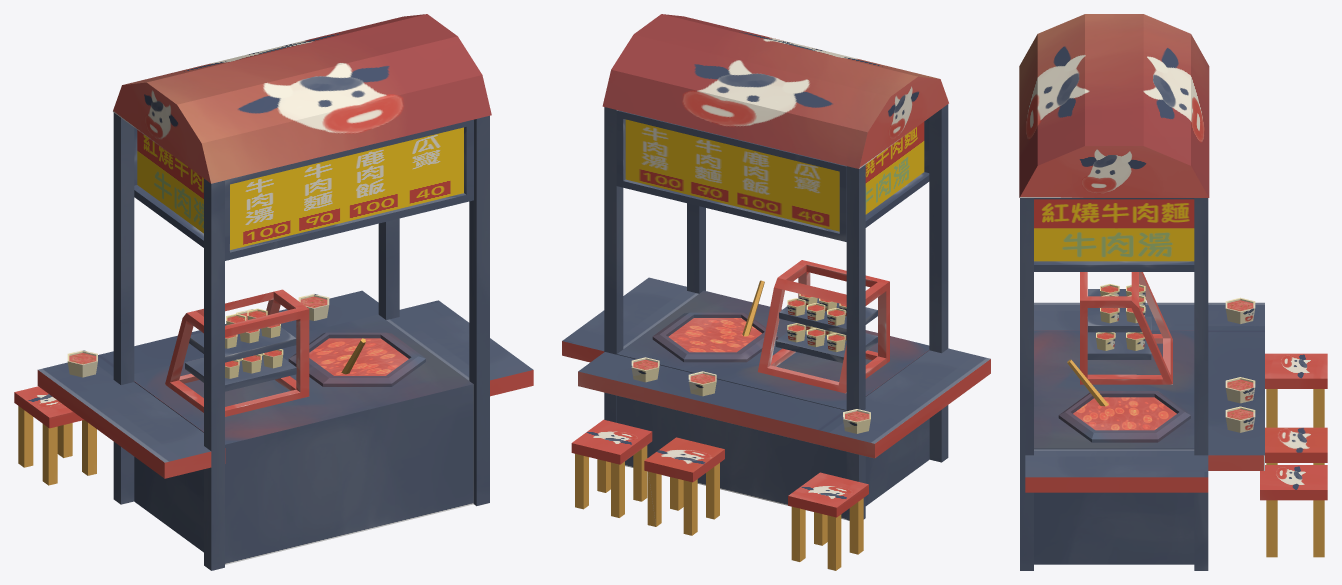
Rendered from Stand_2.glb.
The picture shows the model from 3 angles, left to right: view 1: azimuth 30°, elevation 25°; view 2: azimuth 150°, elevation 25°; view 3: azimuth 270°, elevation 25°; orthographic projection. The views are drawn at different scales.
Parts seen in each view (by area): view 1: Stand.2.001; view 2: Stand.2.001; view 3: Stand.2.001.
Part boxes in pixels (<box>): Stand.2.001: <box>14,14,533,570</box>; Stand.2.001: <box>562,14,990,570</box>; Stand.2.001: <box>1019,14,1327,570</box>.
Bounding box in the file's own units: 3.12 × 3.54 × 2.32.
1 material, 1 textured.
